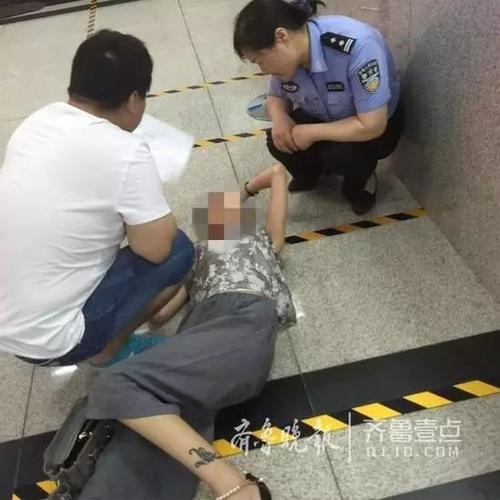falling: (32, 163, 305, 499)
